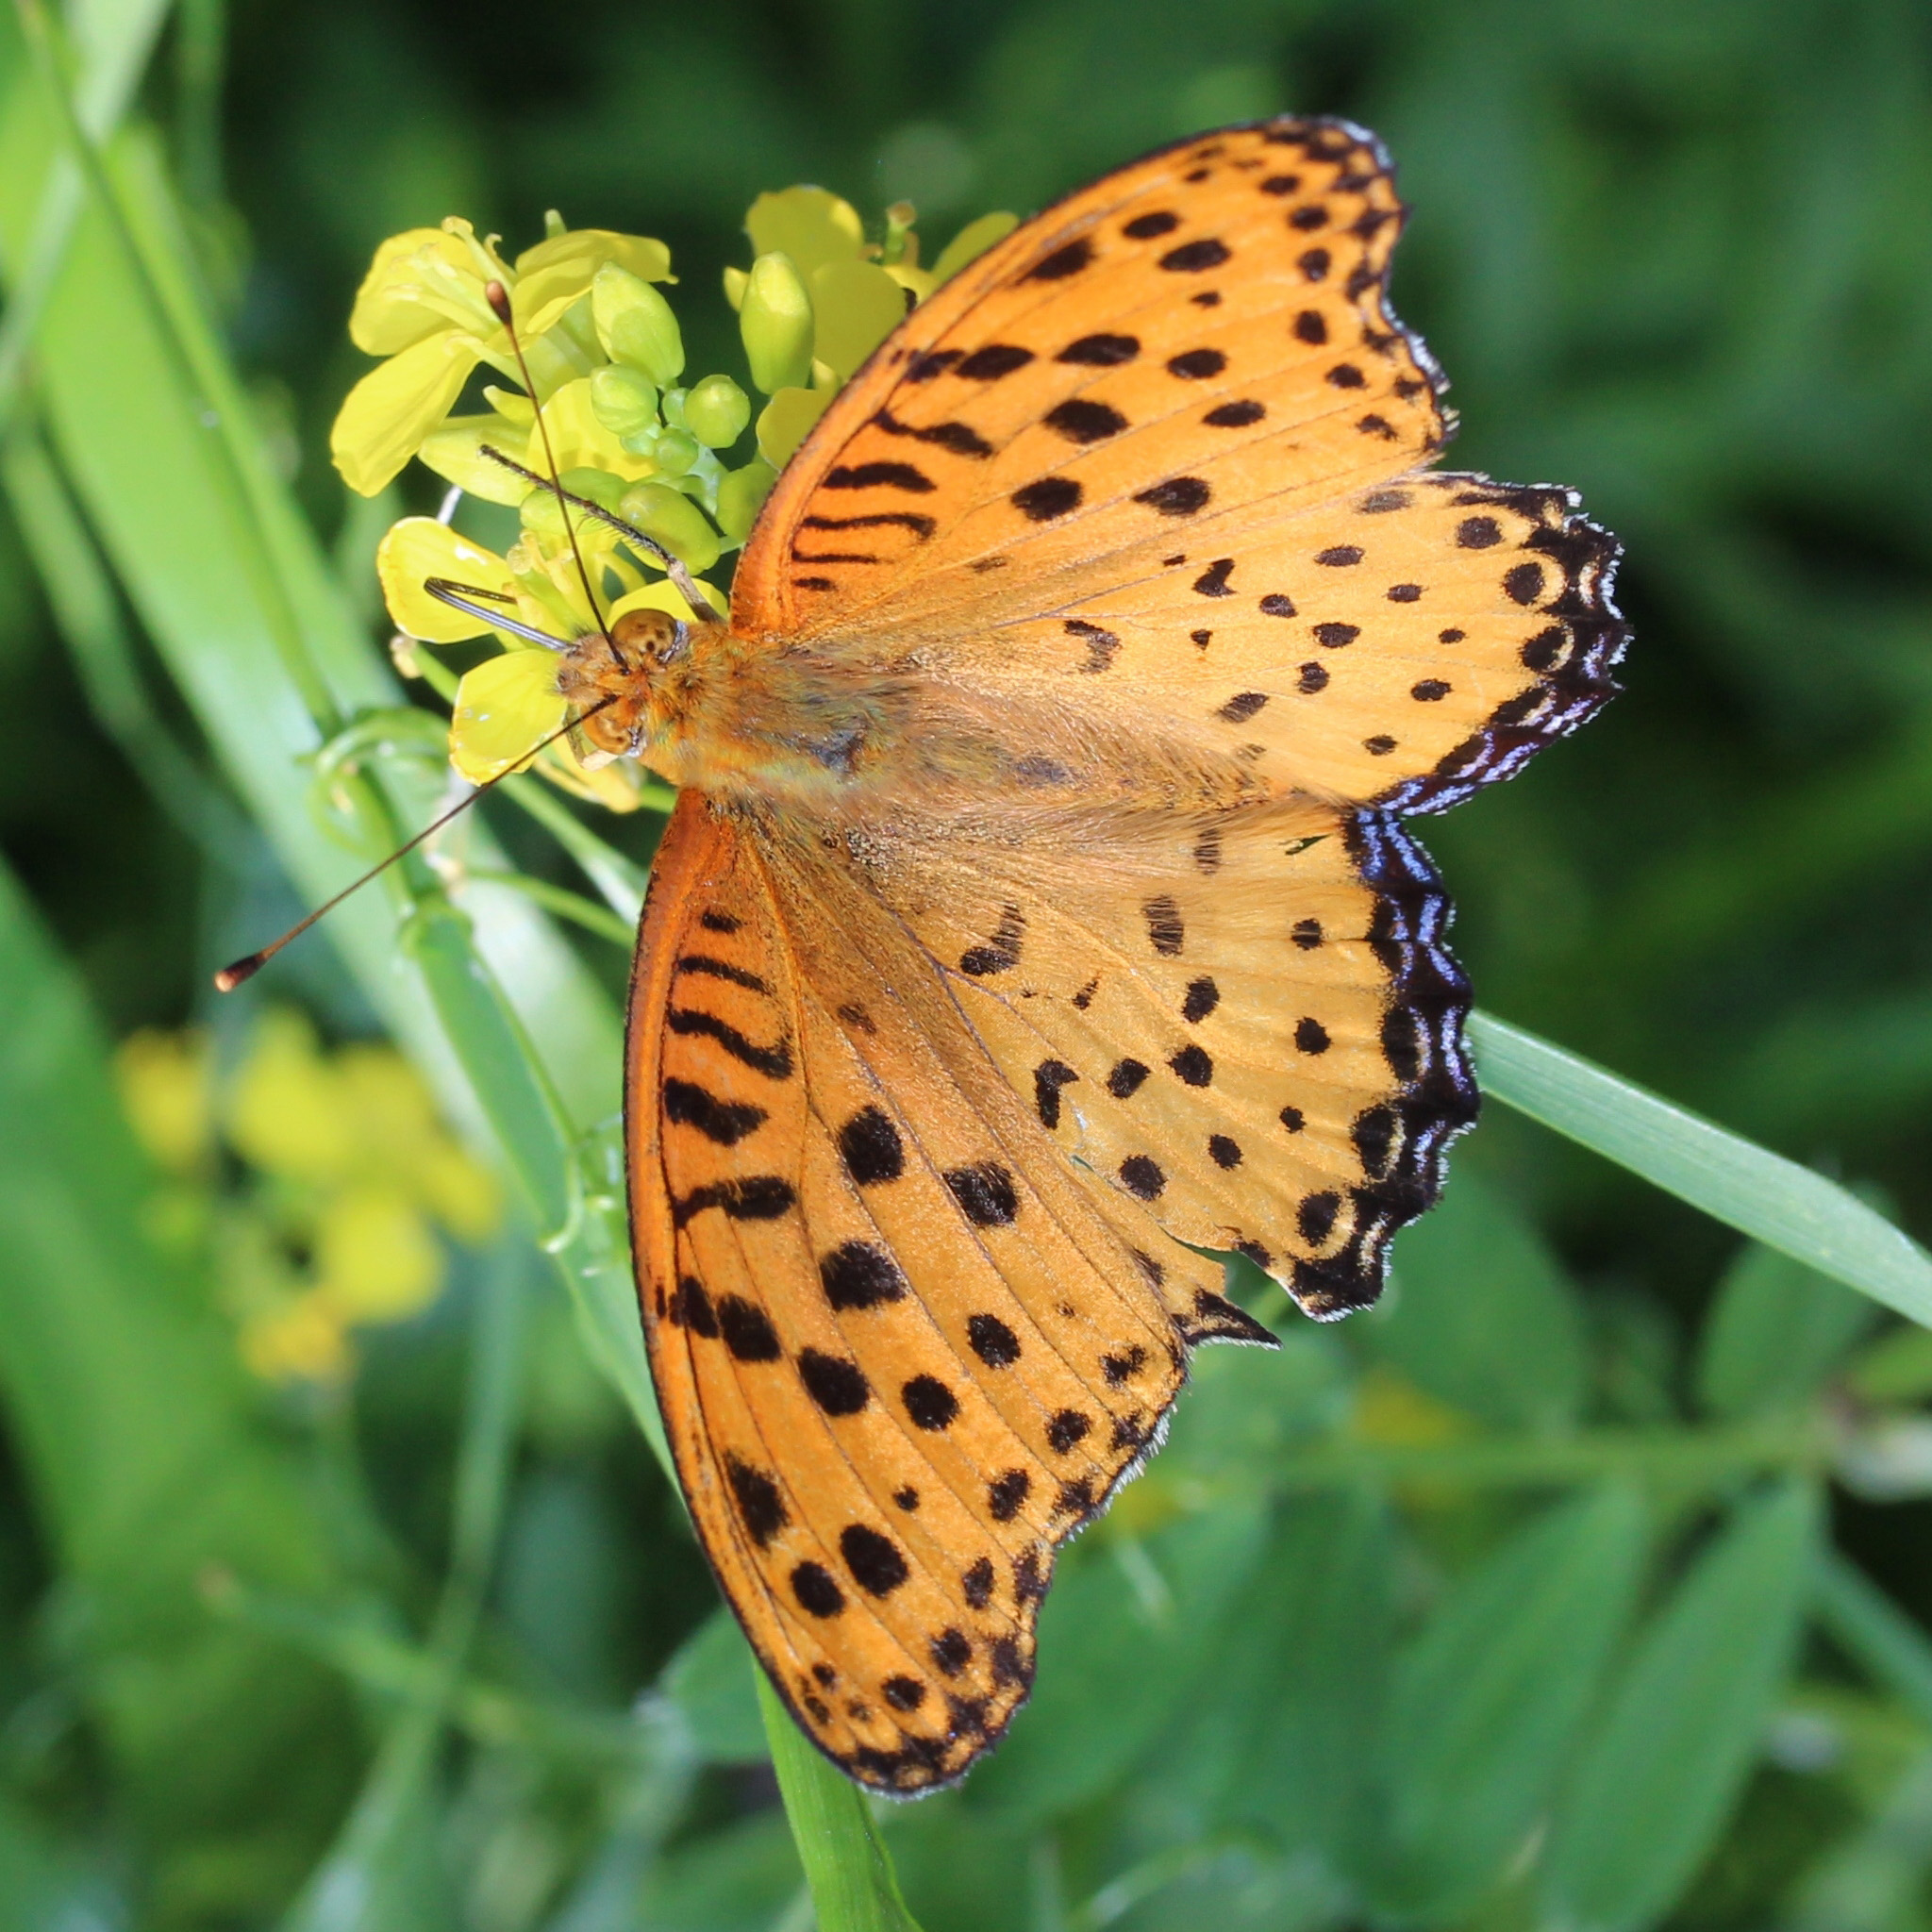Argyreus hyperbius: (221, 103, 1635, 1821)
butterfly: (223, 104, 1637, 1822)
